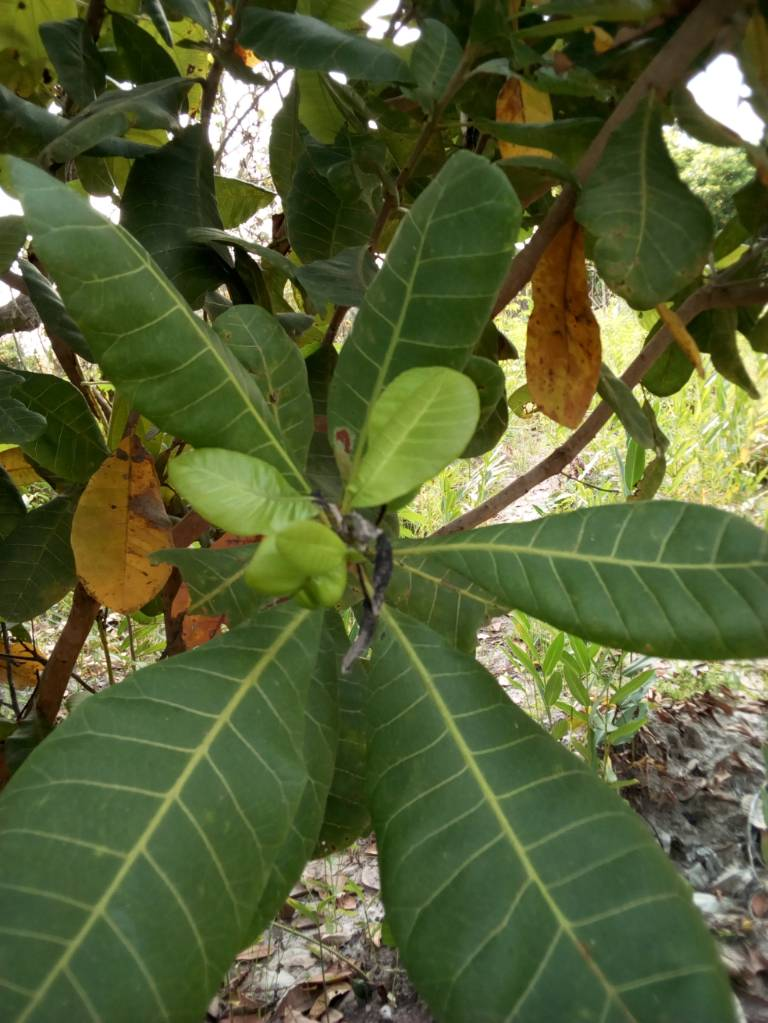Dessèchement des bourgeons: (350, 536, 391, 664)
